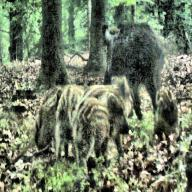boar: (98, 15, 164, 102), (75, 105, 136, 169), (31, 82, 61, 153), (101, 77, 141, 122)
